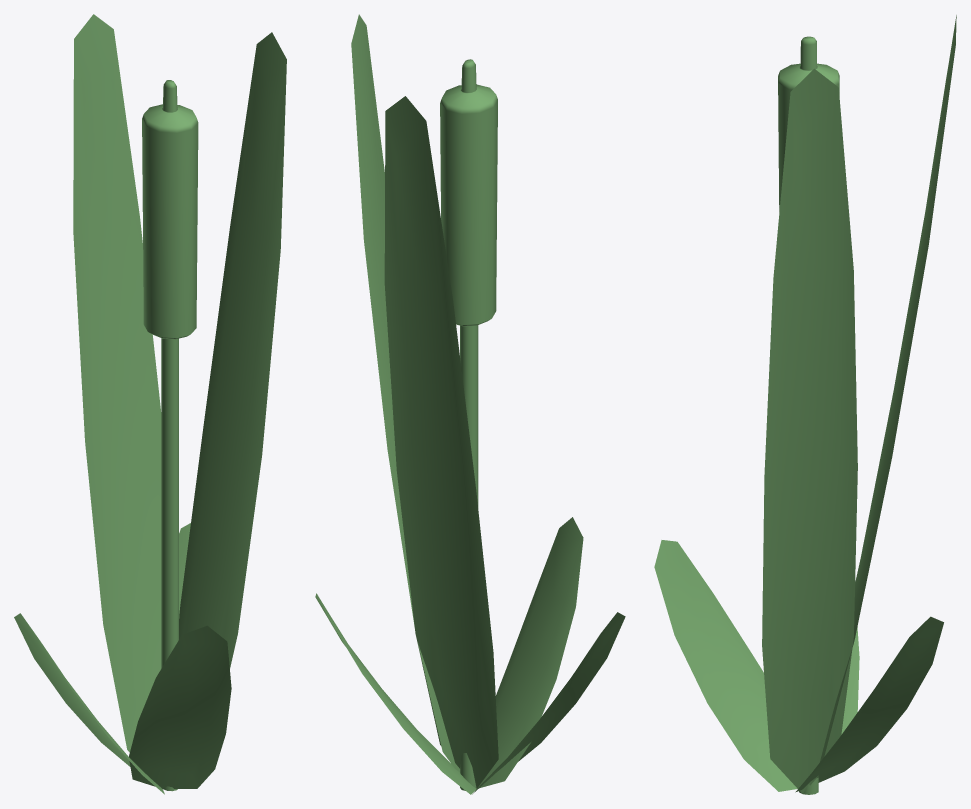
The model's file is CatTail_v01.fbx.
3 renders of one model, left to right at view 1: azimuth 30°, elevation 25°; view 2: azimuth 150°, elevation 25°; view 3: azimuth 270°, elevation 25°, orthographic. The views are drawn at different scales.
Visible parts, largest first — view 1: CatTail_2_GRP_CatTail; view 2: CatTail_2_GRP_CatTail; view 3: CatTail_2_GRP_CatTail.
Part boxes in pixels (bbox=[...]): CatTail_2_GRP_CatTail: bbox=[14, 14, 286, 794]; CatTail_2_GRP_CatTail: bbox=[315, 14, 625, 794]; CatTail_2_GRP_CatTail: bbox=[654, 15, 956, 794].
Size of the model in its own units: 17.29 by 47.14 by 16.62.
